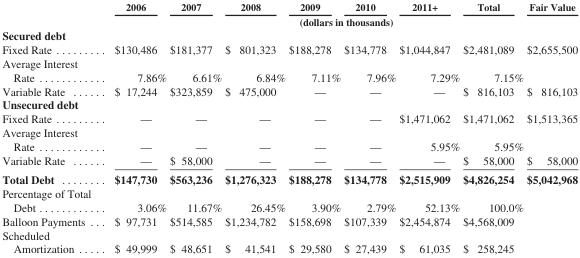table: (1, 0, 577, 254)
table column: (1, 0, 102, 254), (102, 0, 167, 254), (222, 0, 286, 254), (396, 0, 460, 254), (460, 0, 524, 254), (167, 0, 222, 254), (286, 0, 341, 254), (341, 0, 396, 254), (524, 0, 577, 254)
table column header: (1, 0, 577, 27)
table projected row header: (1, 27, 577, 42), (1, 97, 577, 111)
table row: (1, 125, 577, 153), (1, 56, 577, 83), (1, 186, 577, 213), (1, 227, 577, 254), (1, 169, 577, 186), (1, 153, 577, 169), (1, 27, 577, 42), (1, 13, 577, 27), (1, 42, 577, 56), (1, 83, 577, 97), (1, 97, 577, 111), (1, 111, 577, 125), (1, 213, 577, 227), (1, 0, 577, 13)
table spanning cell: (102, 13, 577, 27)
